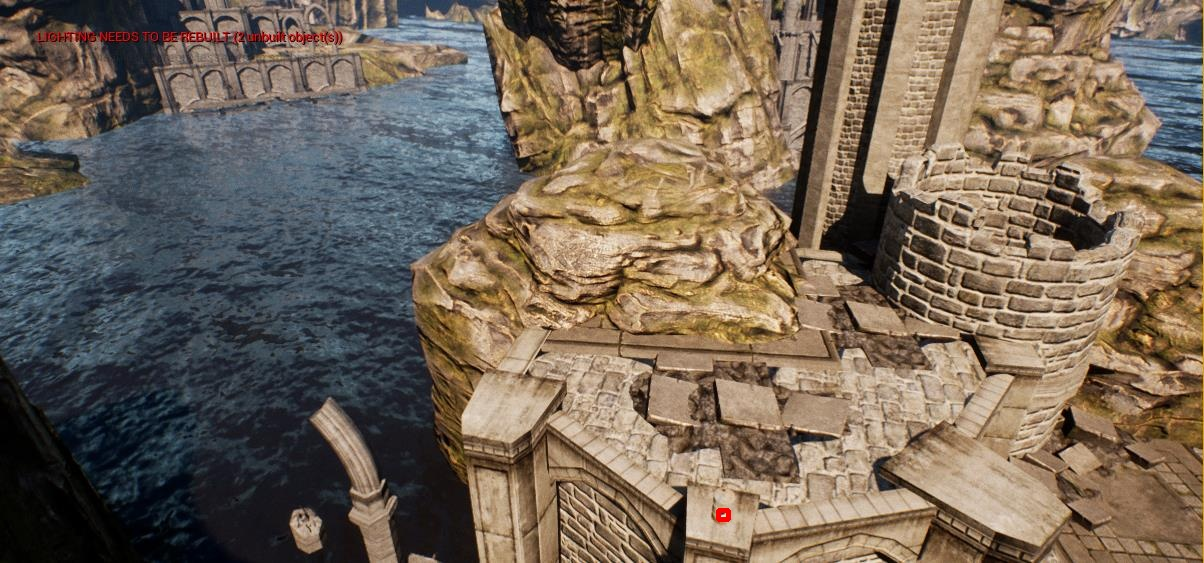nfpa: (718, 510, 728, 519)
